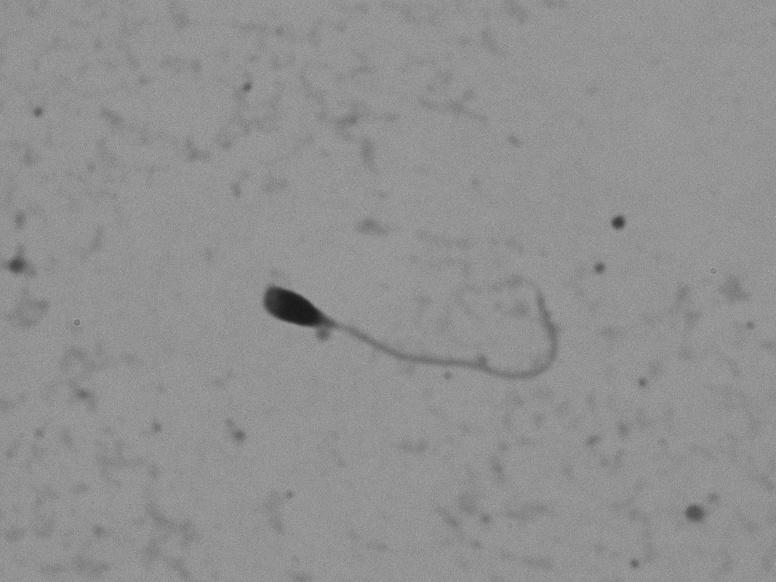Abnormal: (230, 235, 577, 404)
